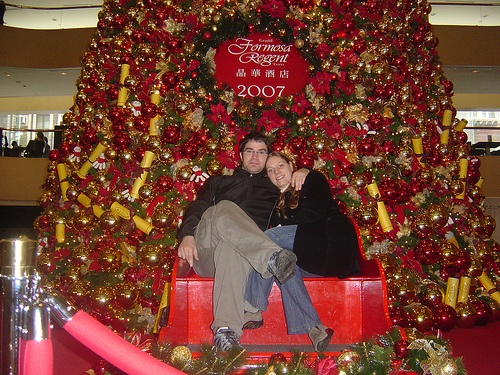head: (264, 147, 295, 193), (240, 133, 269, 175)
person: (175, 133, 310, 358), (267, 143, 362, 355), (22, 131, 49, 156), (6, 140, 22, 156)
